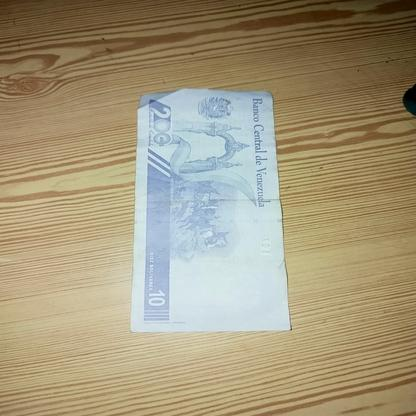ten-back-vef: (129, 90, 292, 338)
